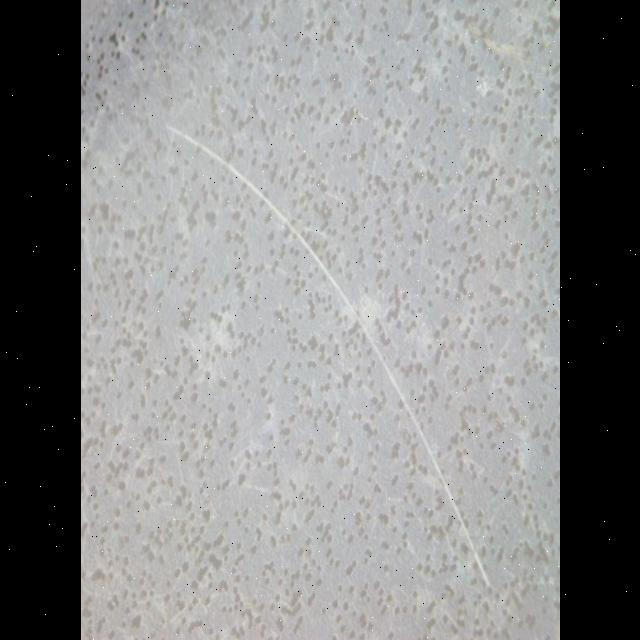Fibre: (161, 118, 493, 592)
